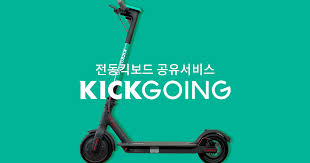kick_body: (121, 141, 197, 153)
kick_handler: (109, 2, 144, 20)
kick_wheel: (79, 129, 115, 163), (197, 128, 229, 163)
